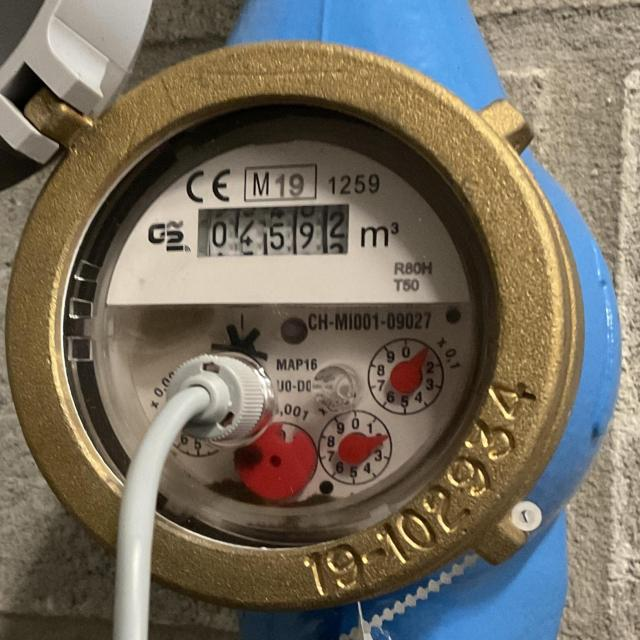gaz_meter: (20, 40, 578, 553)
indication: (199, 202, 348, 256)
